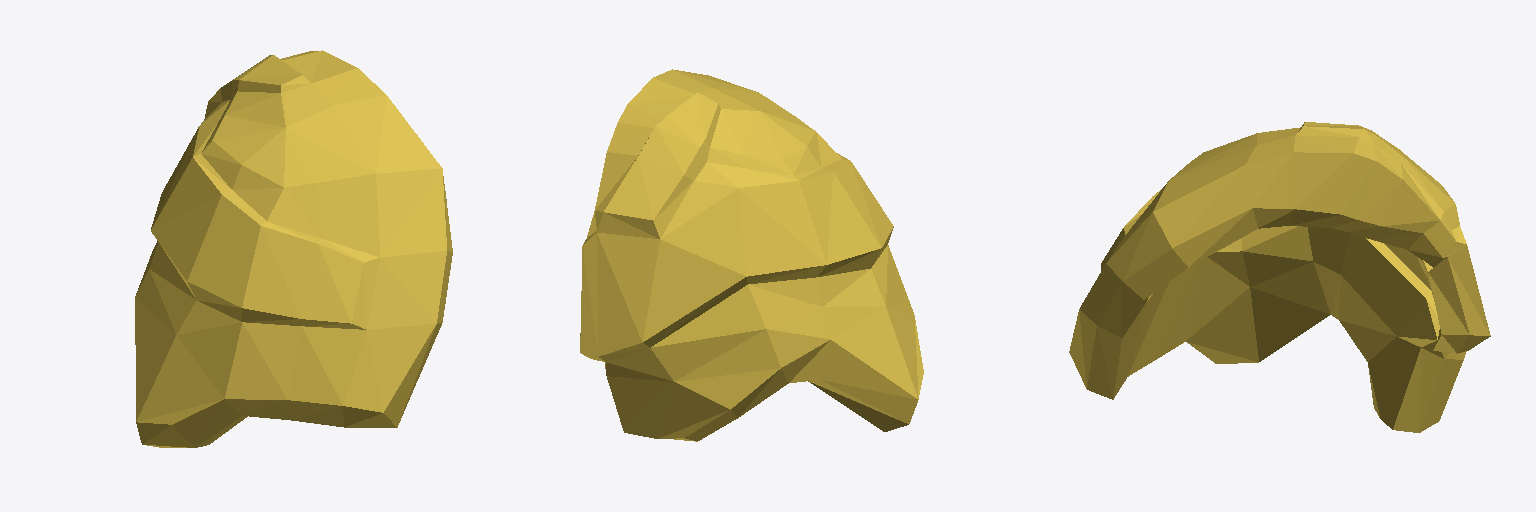
File: Shoulders.obj
3 renders of one model, left to right at view 1: azimuth 30°, elevation 25°; view 2: azimuth 150°, elevation 25°; view 3: azimuth 270°, elevation 25°, orthographic.
Visible parts, largest first — view 1: Plane001; view 2: Plane001; view 3: Plane001.
Part boxes in pixels (bbox=[...]): Plane001: bbox=[135, 50, 452, 447]; Plane001: bbox=[580, 69, 923, 441]; Plane001: bbox=[1069, 122, 1490, 432].
Size of the model in its own units: 8.5 by 9.5 by 11.48.